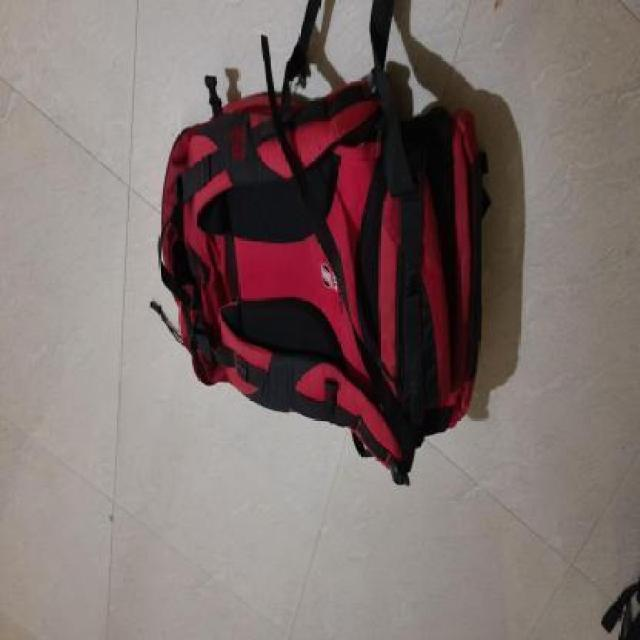backpack: (144, 54, 493, 492)
